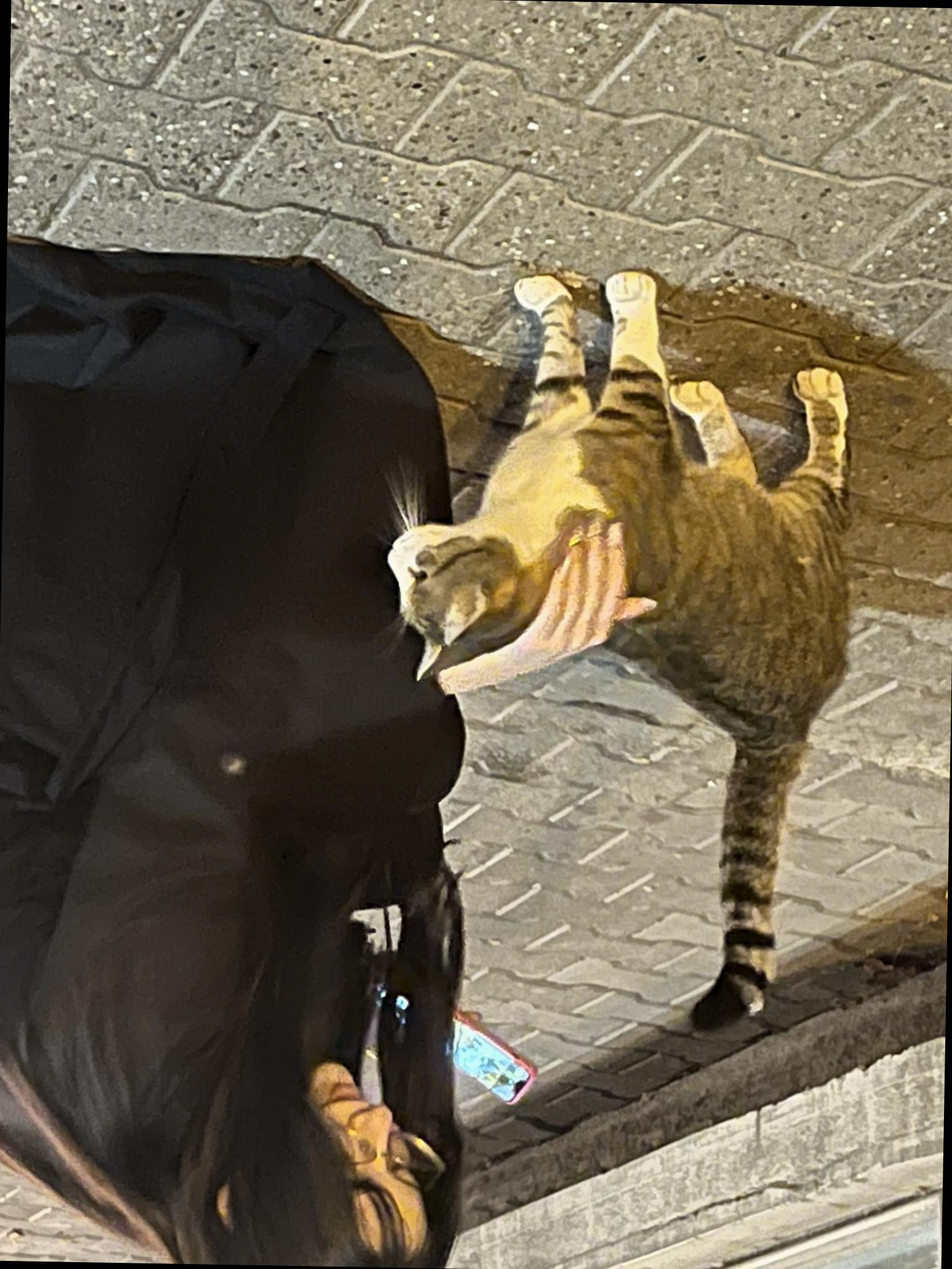macka: (375, 266, 859, 1036)
